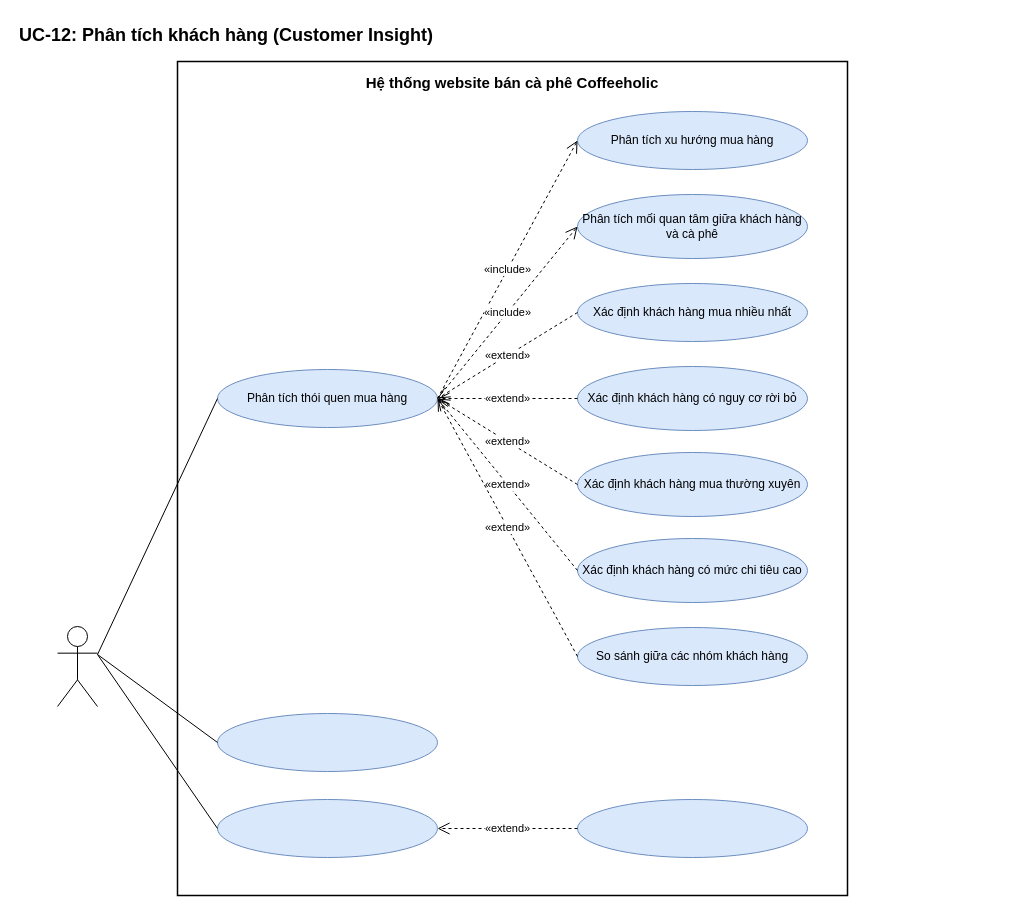
Some shapes in this 1034 by 913 pixel diagram are drawn without their labels. Each missing label, with the centre of its shape:
Lập báo cáo tăng trưởng khách hàng: pixel 327 828
Phân tích giá trị khách hàng: pixel 327 742
Quản lý: pixel 77 666
Xuất dữ liệu phân tích khách hàng: pixel 692 828
